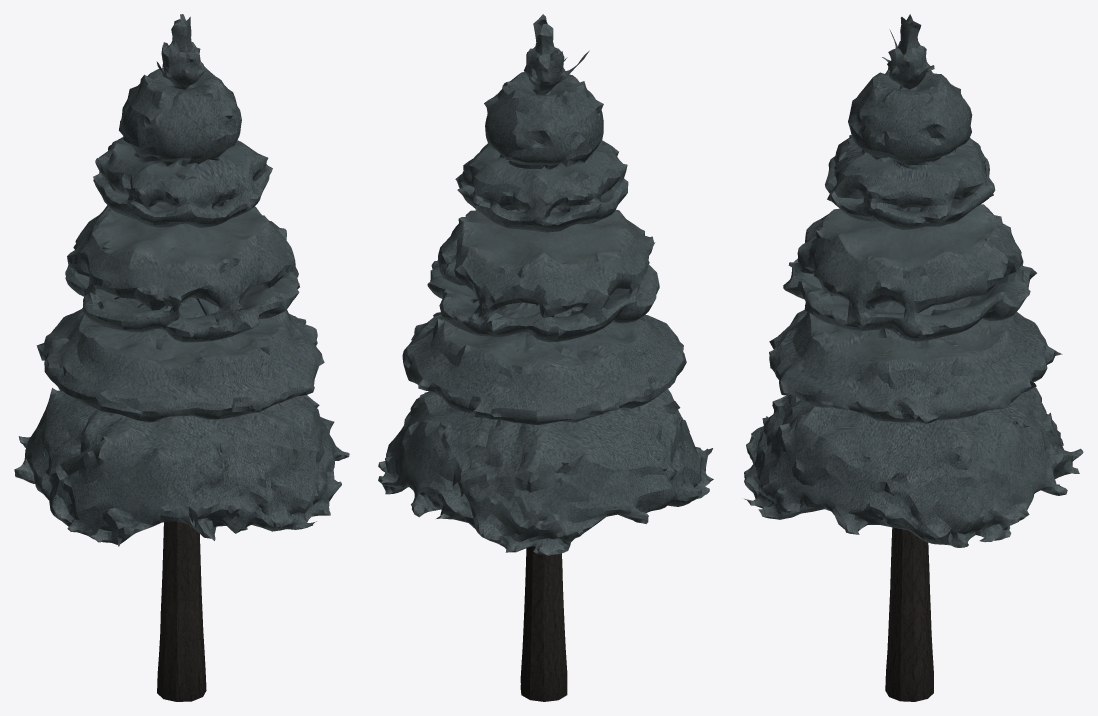
Rendered from ok-tree-pine-meshy.glb.
3 renders of one model, left to right at view 1: azimuth 30°, elevation 25°; view 2: azimuth 150°, elevation 25°; view 3: azimuth 270°, elevation 25°, orthographic.
Bounding box in the file's own units: 0.818 × 1.87 × 0.8523.
1 material, 1 textured.
